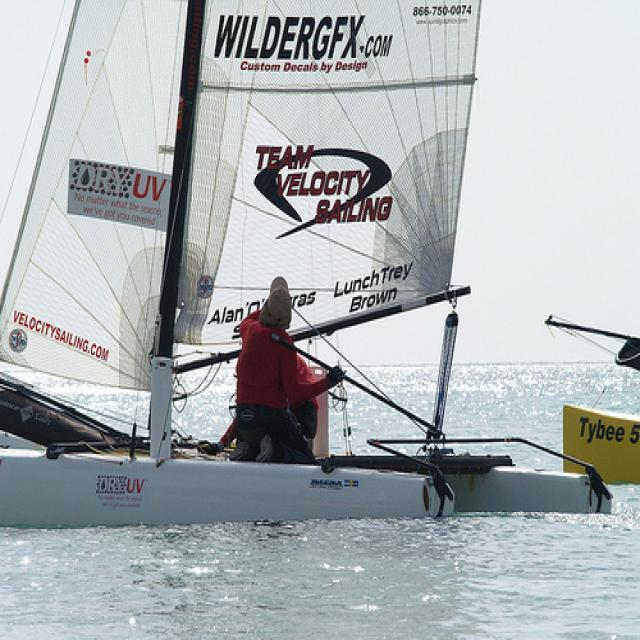Ship: (2, 6, 616, 523)
